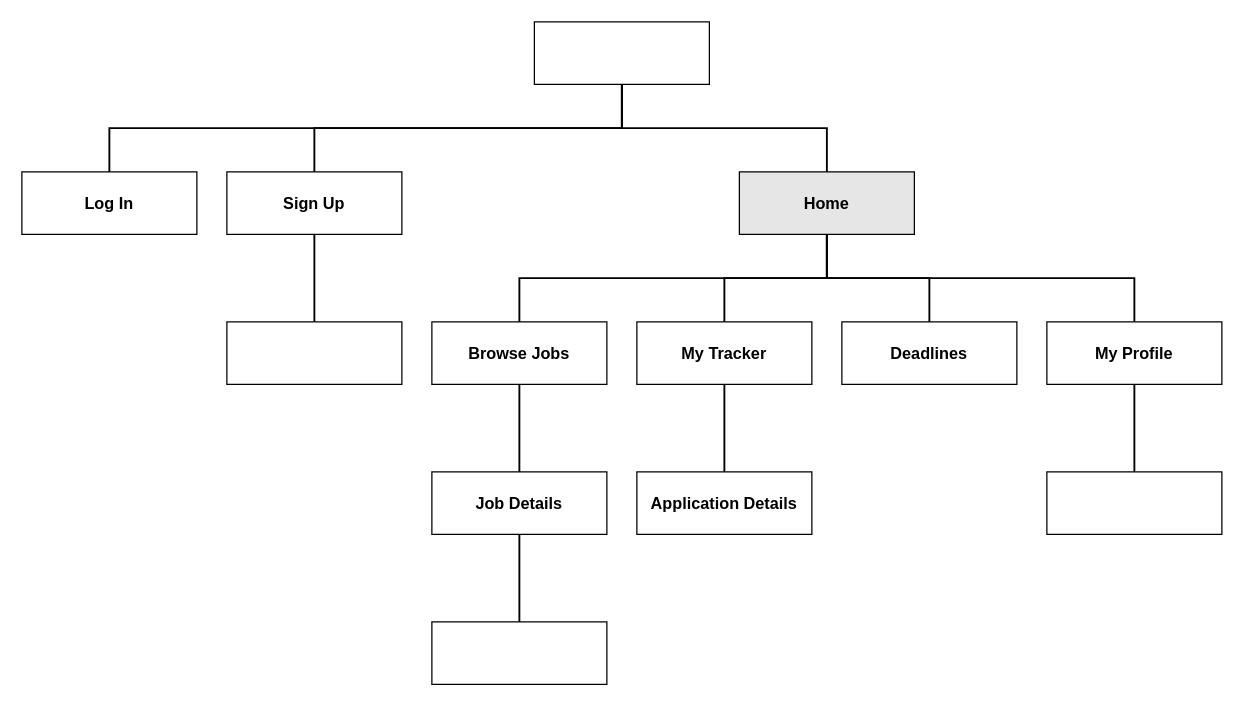
Some shapes in this 1244 by 706 pixel diagram are drawn without their labels. Here are the shapes that lost their labels. From the top down, the centre of each, then its label:
point (621, 52): Welcome
point (314, 352): Profile Setup
point (1134, 502): Edit Profile
point (519, 652): Job Discussion
